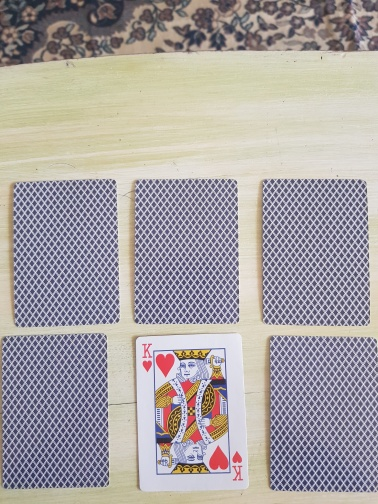king: (134, 333, 249, 492)
